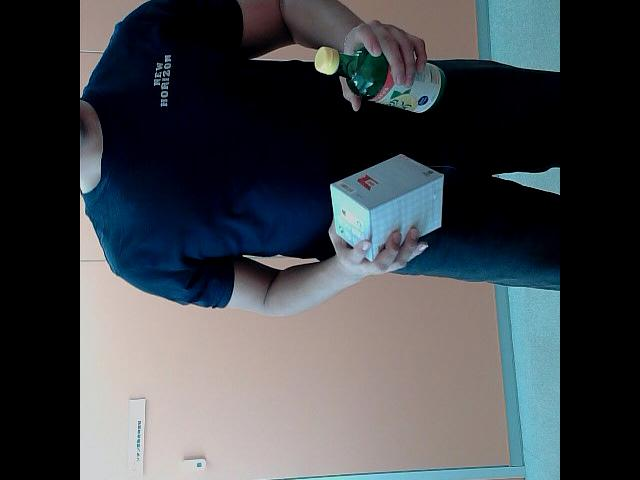Blind_box: (331, 150, 448, 260)
Lemon_sapporo: (314, 42, 452, 116)
